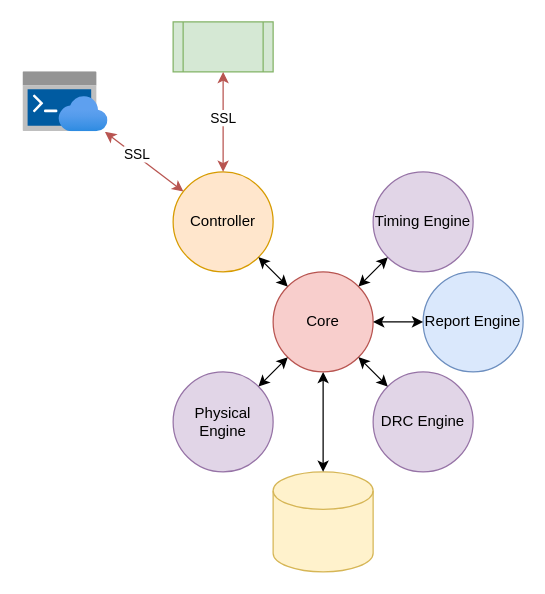
This 545x594 diagram has some shape labels left out. Each missing label, with the centre of its shape:
Command UI: pixel 65 101
Database: pixel 322 521
Graphical UI: pixel 222 46
